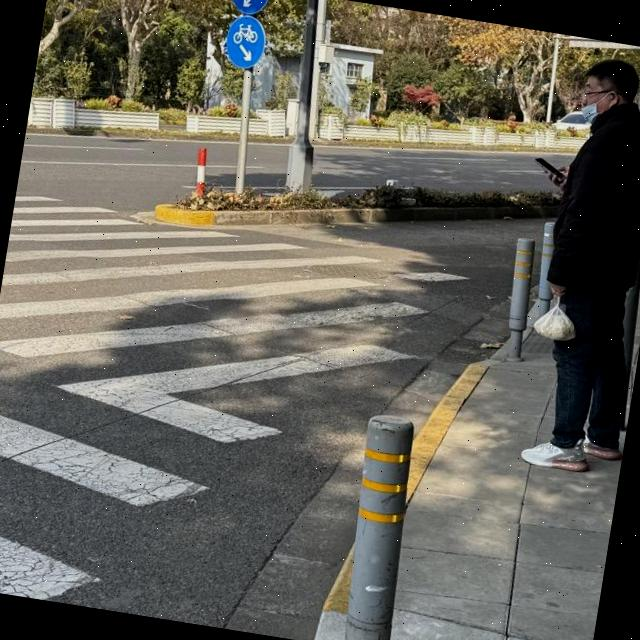curb: (407, 363, 487, 501), (153, 204, 512, 226), (324, 550, 350, 612)
